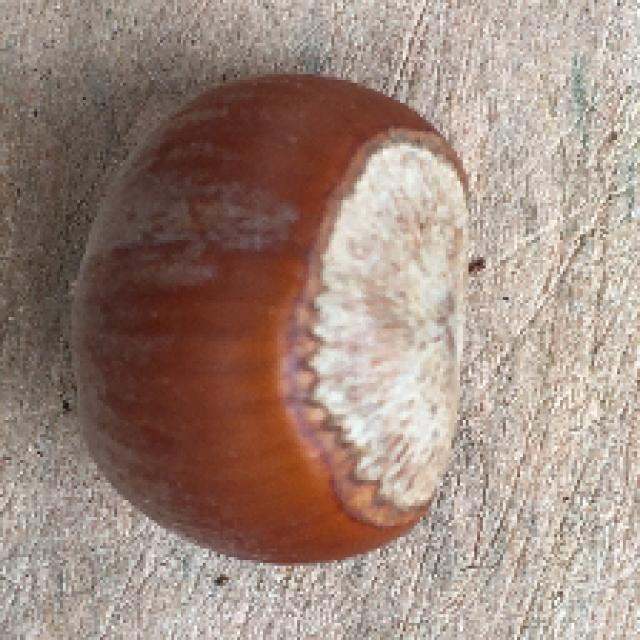QualityHazelnut: (71, 73, 467, 564)
